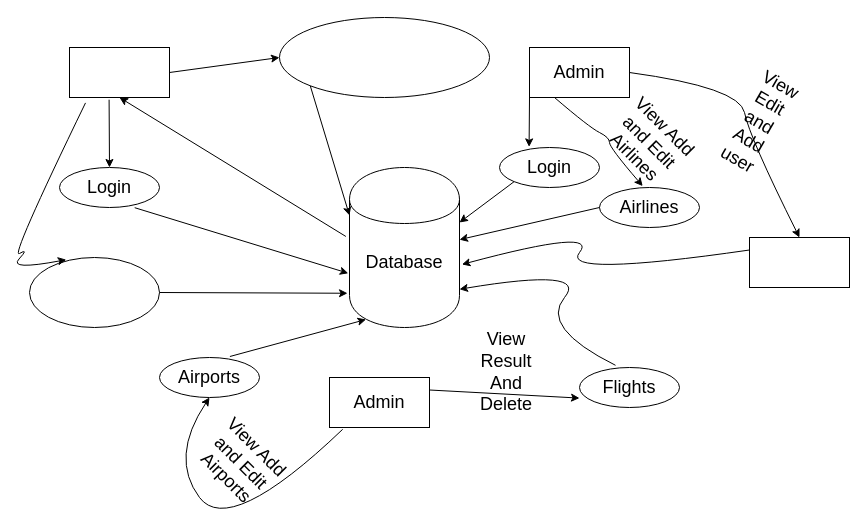
Image size: 868x530. Some labels were removed from this diagram. The centre of each missing label's shape, as x and y in pixels:
"Customer" goes at (x=119, y=72).
"User" goes at (x=799, y=262).
"View and edit result" goes at (x=94, y=292).
"View Flight And book flight" goes at (x=384, y=57).
